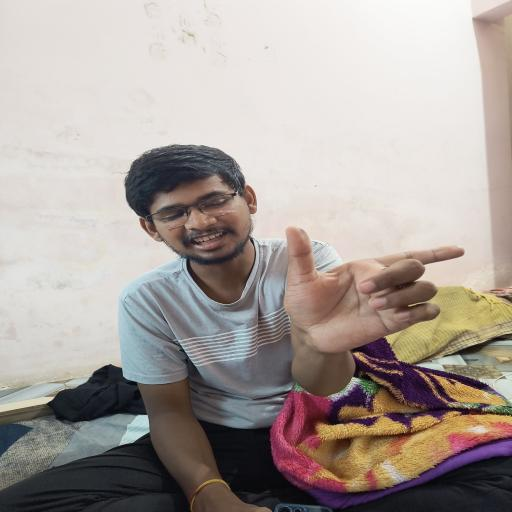Sorry: (262, 218, 490, 360)
